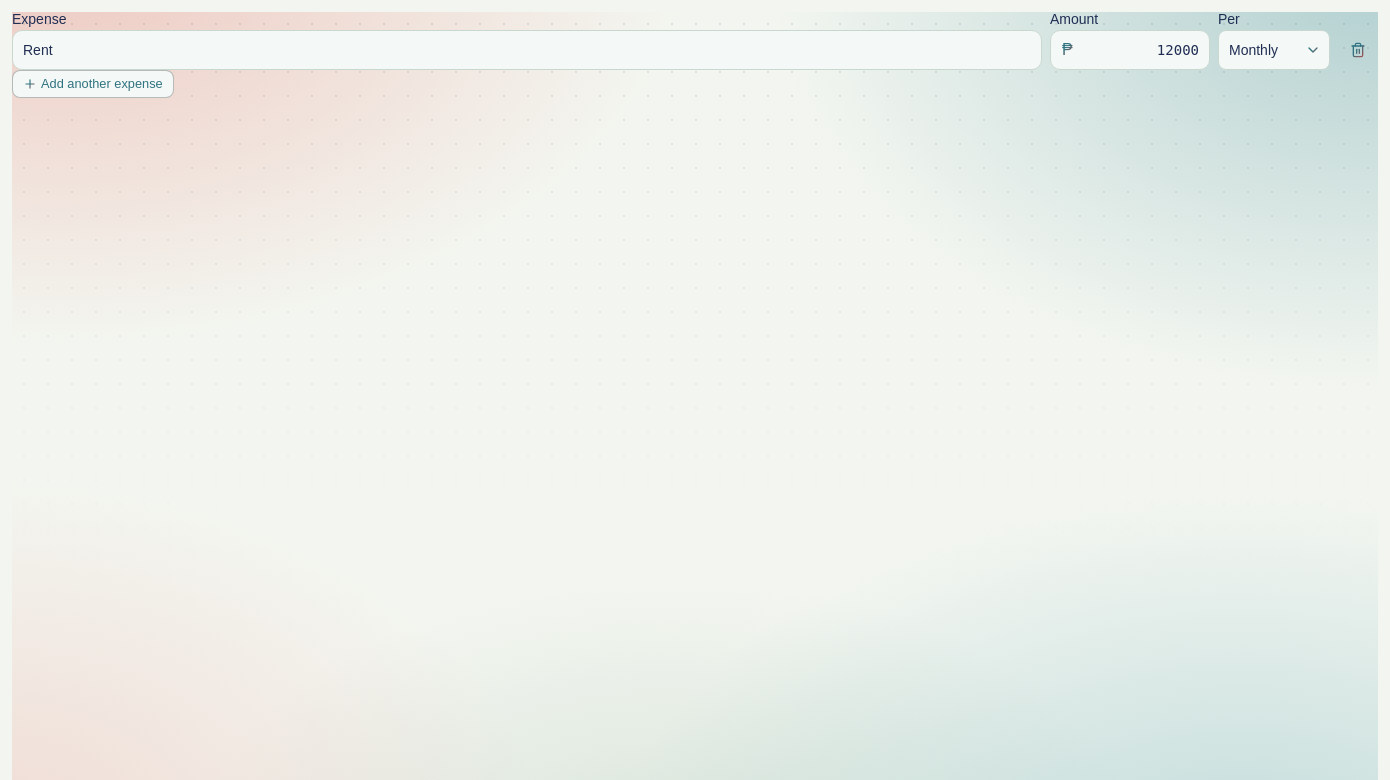
Test: ExpenseList › offers monthly, quarterly and yearly
Click the dropdown.
click(1274, 50)  # box 1218,30 -> 1330,70
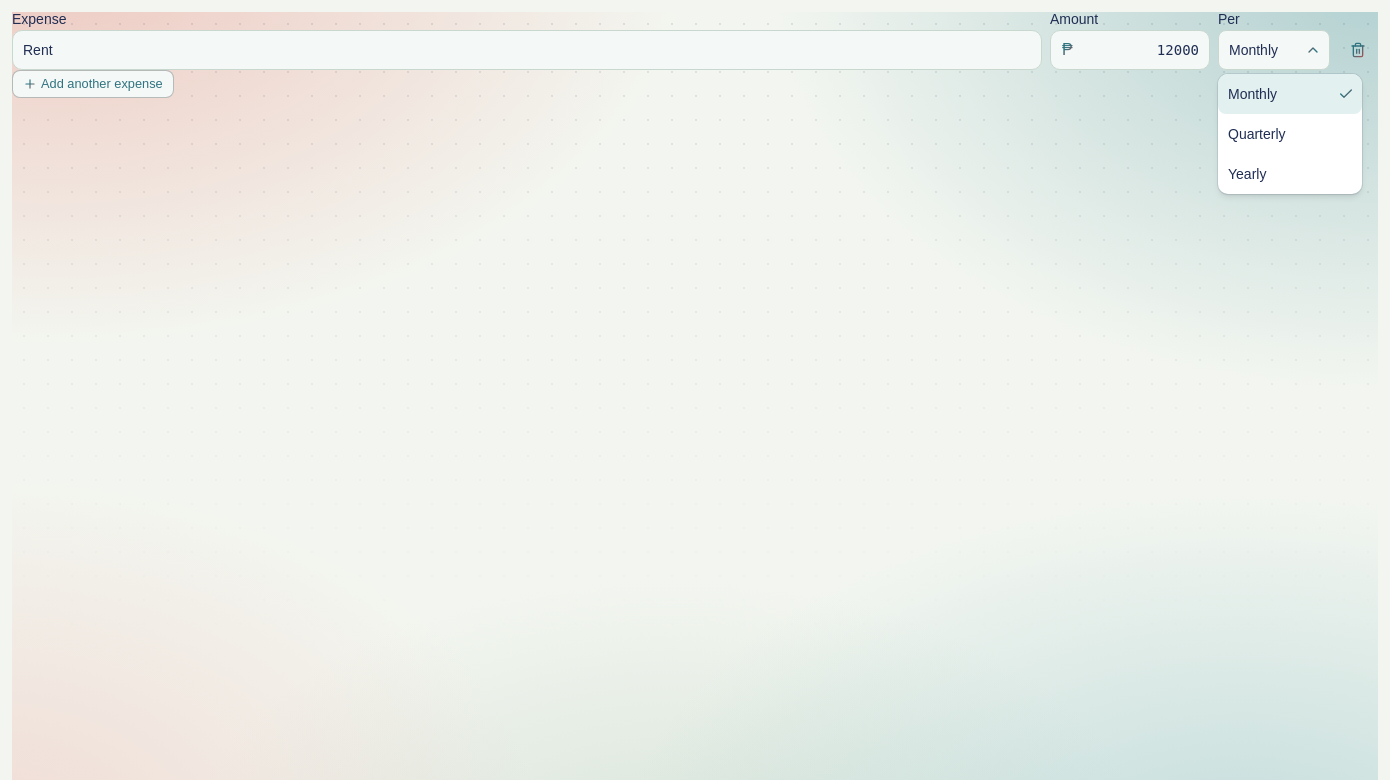
Expected: the options read "Monthly", "Quarterly", "Yearly", in this order, 1218,74 -> 1362,114; 1228,126 -> 1286,142; 1228,166 -> 1266,182
